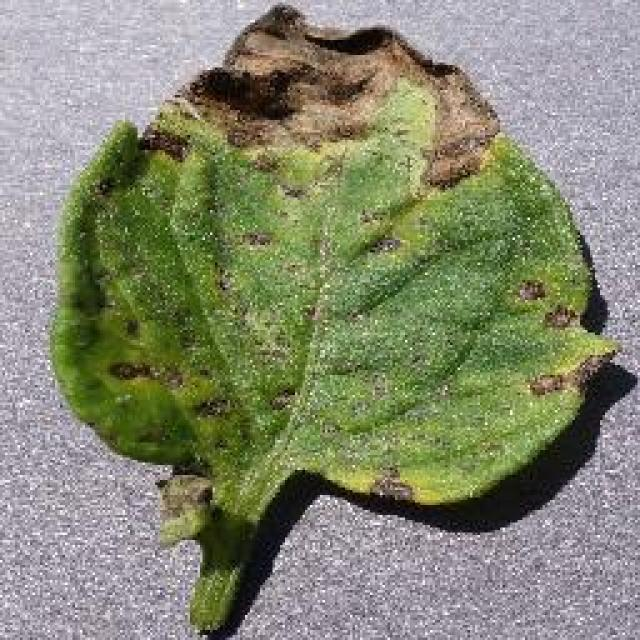Tomato target spot leaf: (50, 4, 615, 508)
